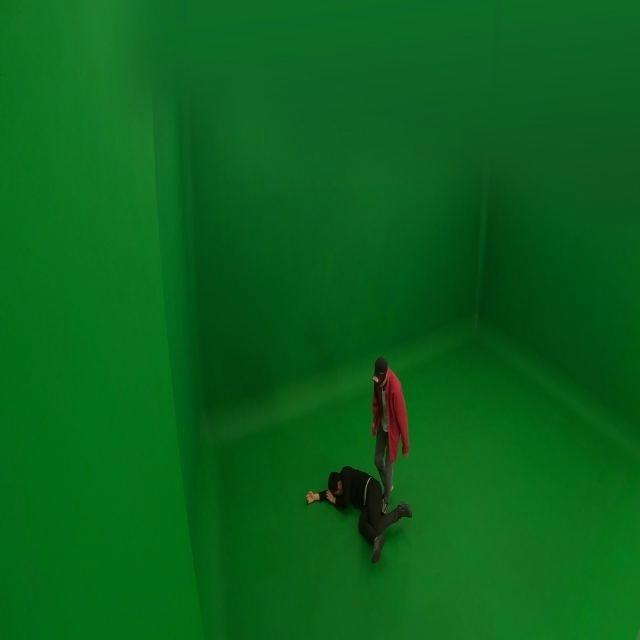fight: (298, 351, 414, 562)
